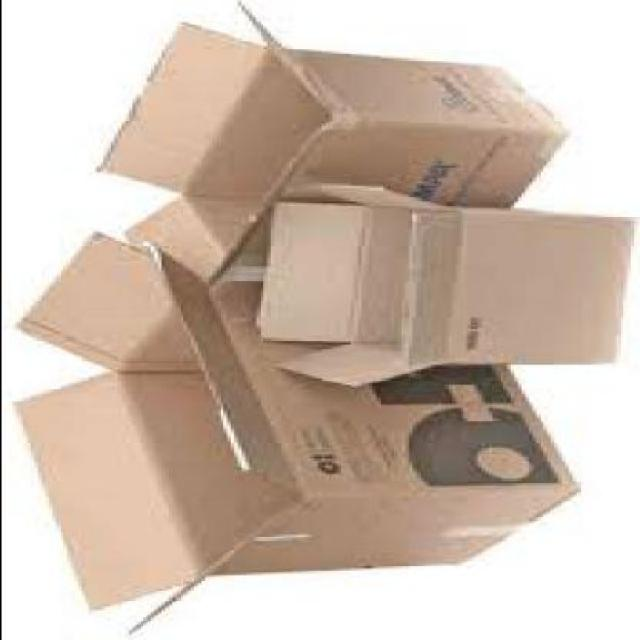CARDBOARD: (8, 235, 574, 636), (91, 7, 560, 287), (247, 186, 625, 392)
